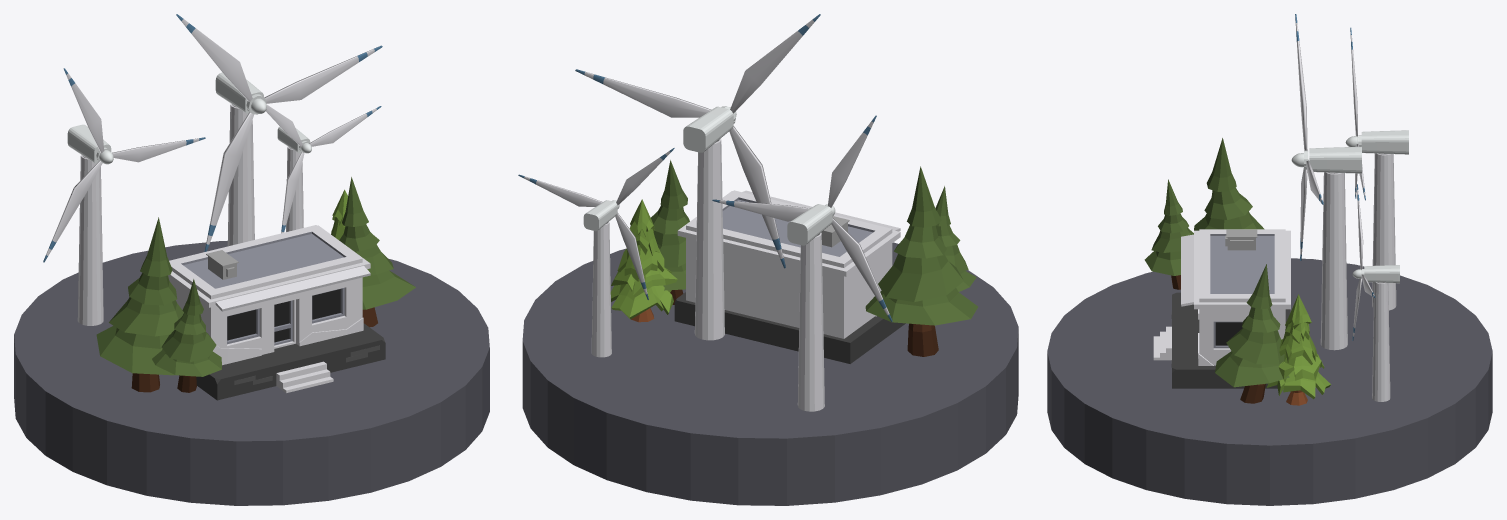
File: wind.glb
The picture shows the model from 3 angles, left to right: view 1: azimuth 30°, elevation 25°; view 2: azimuth 150°, elevation 25°; view 3: azimuth 270°, elevation 25°; orthographic projection. The views are drawn at different scales.
Visible parts, largest first — view 1: Cylinder, Cube.006, Tree.012, Cube.004, Cylinder.003, Cube.008, Tree.009, Tree.021, Cube.003, Cylinder.002, Cube.007, Cylinder.004 (+4 smaller); view 2: Cylinder, Cube.006, Tree.012, Cube.003, Cube.008, Cylinder.003, Cube.004, Tree.001, Cube.015, Cylinder.002, Tree.009, Cylinder.004 (+1 smaller); view 3: Cylinder, Cube.006, Cube.003, Tree.009, Cube.008, Tree.001, Cube.004, Tree.012, Cube.015, Tree.021, Cylinder.003, Cube.007 (+4 smaller).
Boxes of the visible parts, left/top/right/bottom form: Cylinder: left=14, top=241, right=489, bottom=505; Cube.006: left=168, top=225, right=370, bottom=354; Tree.012: left=96, top=217, right=183, bottom=392; Cube.004: left=196, top=323, right=385, bottom=400; Cylinder.003: left=176, top=14, right=382, bottom=251; Cube.008: left=67, top=124, right=111, bottom=325; Tree.009: left=339, top=177, right=415, bottom=327; Tree.021: left=152, top=279, right=221, bottom=392; Cube.003: left=215, top=72, right=263, bottom=246; Cylinder.002: left=43, top=68, right=205, bottom=262; Cube.007: left=215, top=266, right=370, bottom=311; Cylinder.004: left=266, top=105, right=381, bottom=233; Cylinder: left=522, top=242, right=1018, bottom=505; Cube.006: left=677, top=190, right=900, bottom=338; Tree.012: left=865, top=166, right=977, bottom=356; Cube.003: left=683, top=106, right=733, bottom=340; Cube.008: left=787, top=204, right=832, bottom=411; Cylinder.003: left=575, top=14, right=820, bottom=268; Cube.004: left=674, top=292, right=905, bottom=363; Tree.001: left=610, top=199, right=677, bottom=322; Cube.015: left=583, top=200, right=617, bottom=357; Cylinder.002: left=712, top=115, right=892, bottom=321; Tree.009: left=651, top=160, right=689, bottom=304; Cylinder.004: left=518, top=148, right=674, bottom=299; Cylinder: left=1047, top=258, right=1492, bottom=505; Cube.006: left=1194, top=229, right=1290, bottom=365; Cube.003: left=1309, top=146, right=1361, bottom=350; Tree.009: left=1215, top=264, right=1289, bottom=403; Cube.008: left=1361, top=130, right=1408, bottom=310; Tree.001: left=1264, top=294, right=1330, bottom=405; Cube.004: left=1172, top=292, right=1290, bottom=388; Tree.012: left=1194, top=138, right=1264, bottom=230; Cube.015: left=1364, top=265, right=1399, bottom=401; Tree.021: left=1144, top=179, right=1193, bottom=289; Cylinder.003: left=1295, top=14, right=1323, bottom=260; Cube.007: left=1181, top=234, right=1193, bottom=306.
Size of the model in its own units: 3.33 by 3.05 by 3.33.
